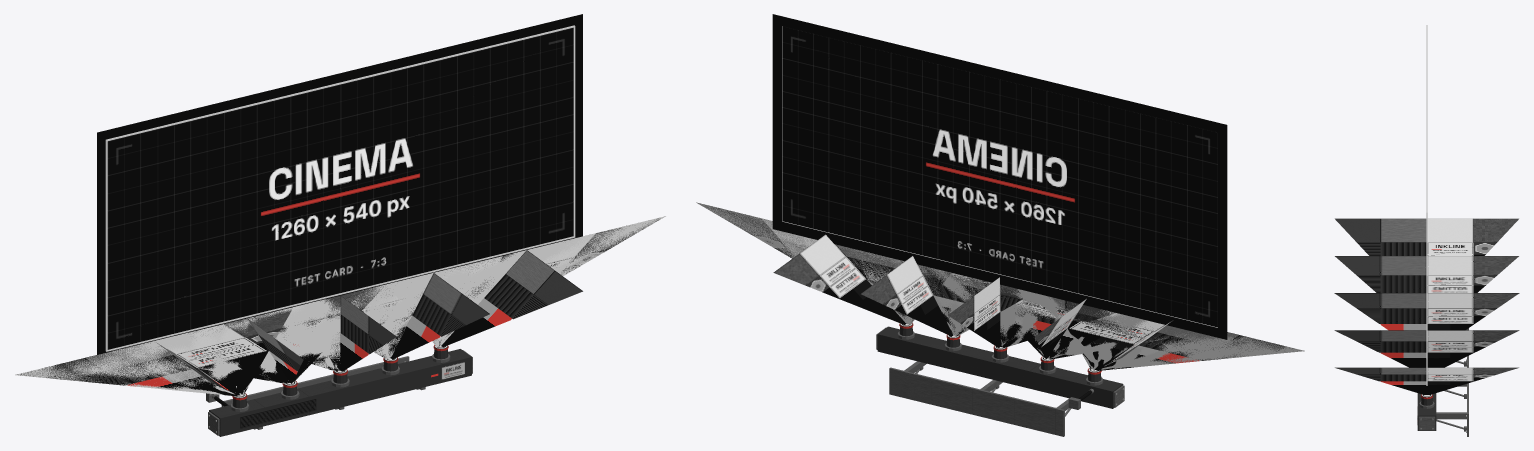
File: display_cinema.glb
3 renders of one model, left to right at view 1: azimuth 30°, elevation 25°; view 2: azimuth 150°, elevation 25°; view 3: azimuth 270°, elevation 25°, orthographic. The views are drawn at different scales.
Visible parts, largest first — view 1: screen_cinema, beam, farBody, body, glow; view 2: screen_cinema, beam, farBody, body, glow; view 3: beam, body, glow, farBody.
Part boxes in pixels (x1=…): screen_cinema: x1=107, y1=27, x2=573, y2=349; beam: x1=17, y1=14, x2=665, y2=396; farBody: x1=15, y1=216, x2=664, y2=436; body: x1=206, y1=344, x2=472, y2=435; glow: x1=105, y1=25, x2=575, y2=397; screen_cinema: x1=782, y1=26, x2=1217, y2=327; beam: x1=698, y1=14, x2=1303, y2=370; farBody: x1=696, y1=202, x2=1304, y2=436; body: x1=876, y1=323, x2=1124, y2=436; glow: x1=782, y1=26, x2=1217, y2=372; beam: x1=1334, y1=218, x2=1519, y2=394; body: x1=1417, y1=328, x2=1468, y2=432; glow: x1=1422, y1=25, x2=1431, y2=397; farBody: x1=1417, y1=383, x2=1468, y2=436.
Bounding box in the file's own units: 8.82 × 4.54 × 2.65.
5 materials, 5 textured.
